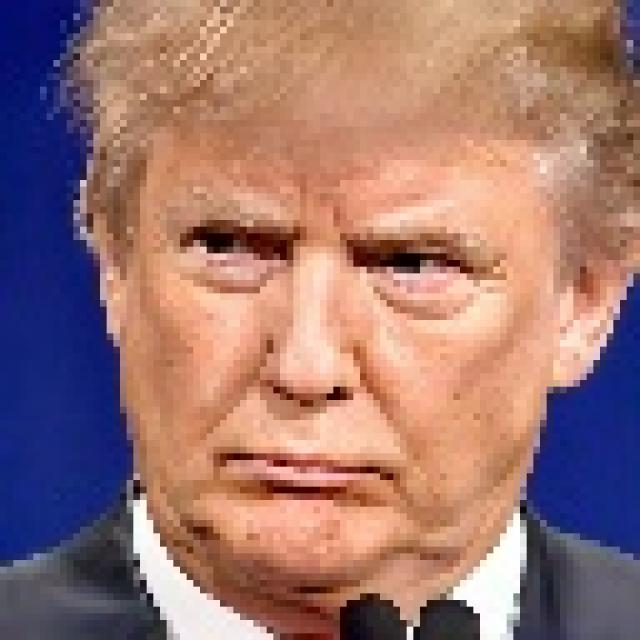angry: (93, 0, 627, 600)
